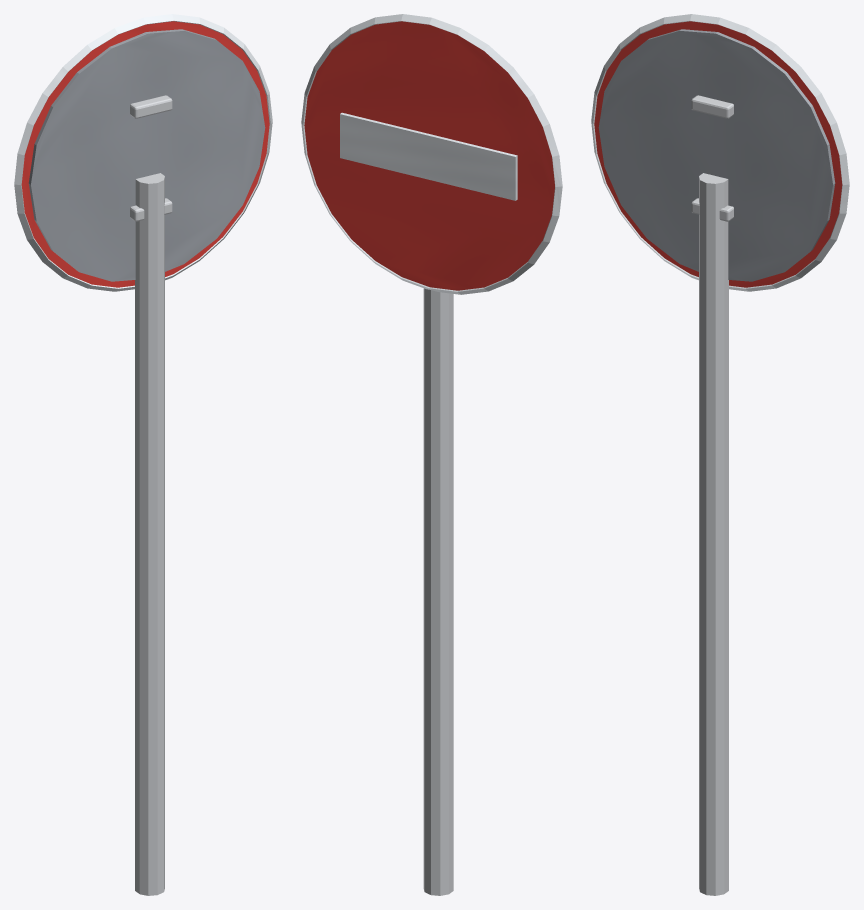
The model's file is SW_NoEntrySign.glb.
The picture shows the model from 3 angles, left to right: view 1: azimuth 30°, elevation 25°; view 2: azimuth 150°, elevation 25°; view 3: azimuth 330°, elevation 25°; orthographic projection.
Visible parts, largest first — view 1: Sign; view 2: Sign; view 3: Sign.
Boxes of the visible parts, x1,y1,x2,y2 form: Sign: (14,14,272,895); Sign: (301,14,562,895); Sign: (591,14,849,895).
Bounding box in the file's own units: 0.684 × 2.19 × 0.084.
Materials: 2 (1 with a texture image).
